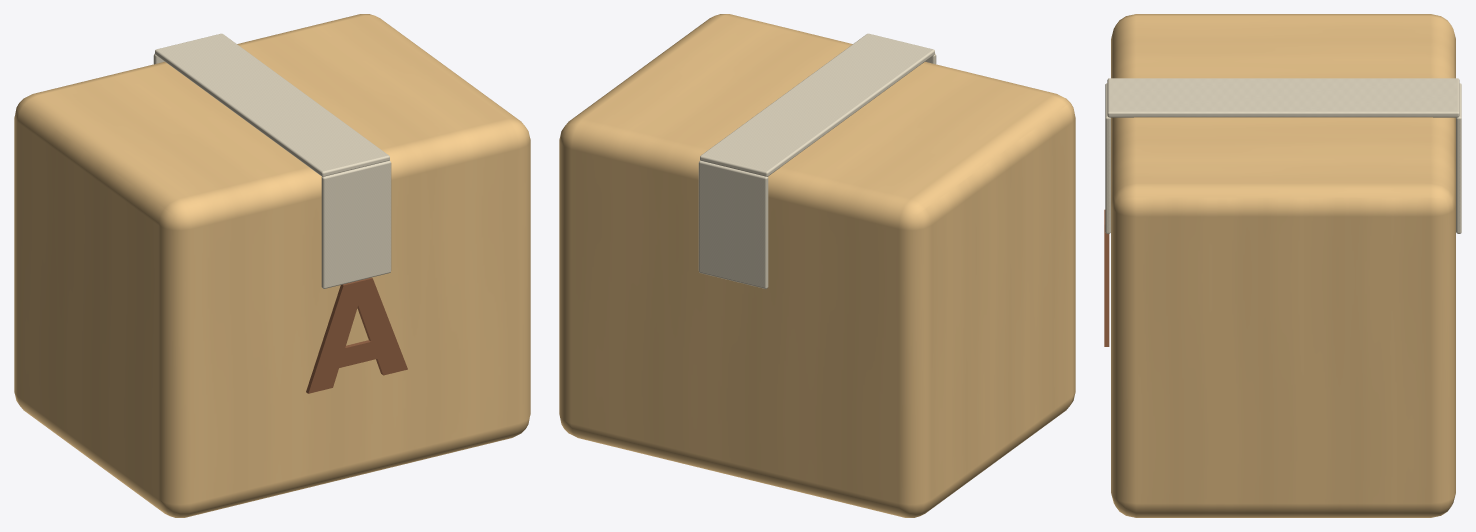
The picture shows the model from 3 angles, left to right: view 1: azimuth 30°, elevation 25°; view 2: azimuth 150°, elevation 25°; view 3: azimuth 270°, elevation 25°; orthographic projection. The views are drawn at different scales.
Parts seen in each view (by area): view 1: BOX; view 2: BOX; view 3: BOX.
Part boxes in pixels (<box>): BOX: <box>14,14,530,517</box>; BOX: <box>559,14,1075,517</box>; BOX: <box>1104,14,1461,517</box>.
Size of the model in its own units: 0.62 by 0.5175 by 0.4975.
3 materials, 2 textured.
